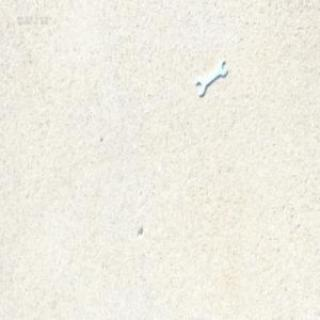Wrenchtrack_idkeyframe: (194, 61, 224, 98)
